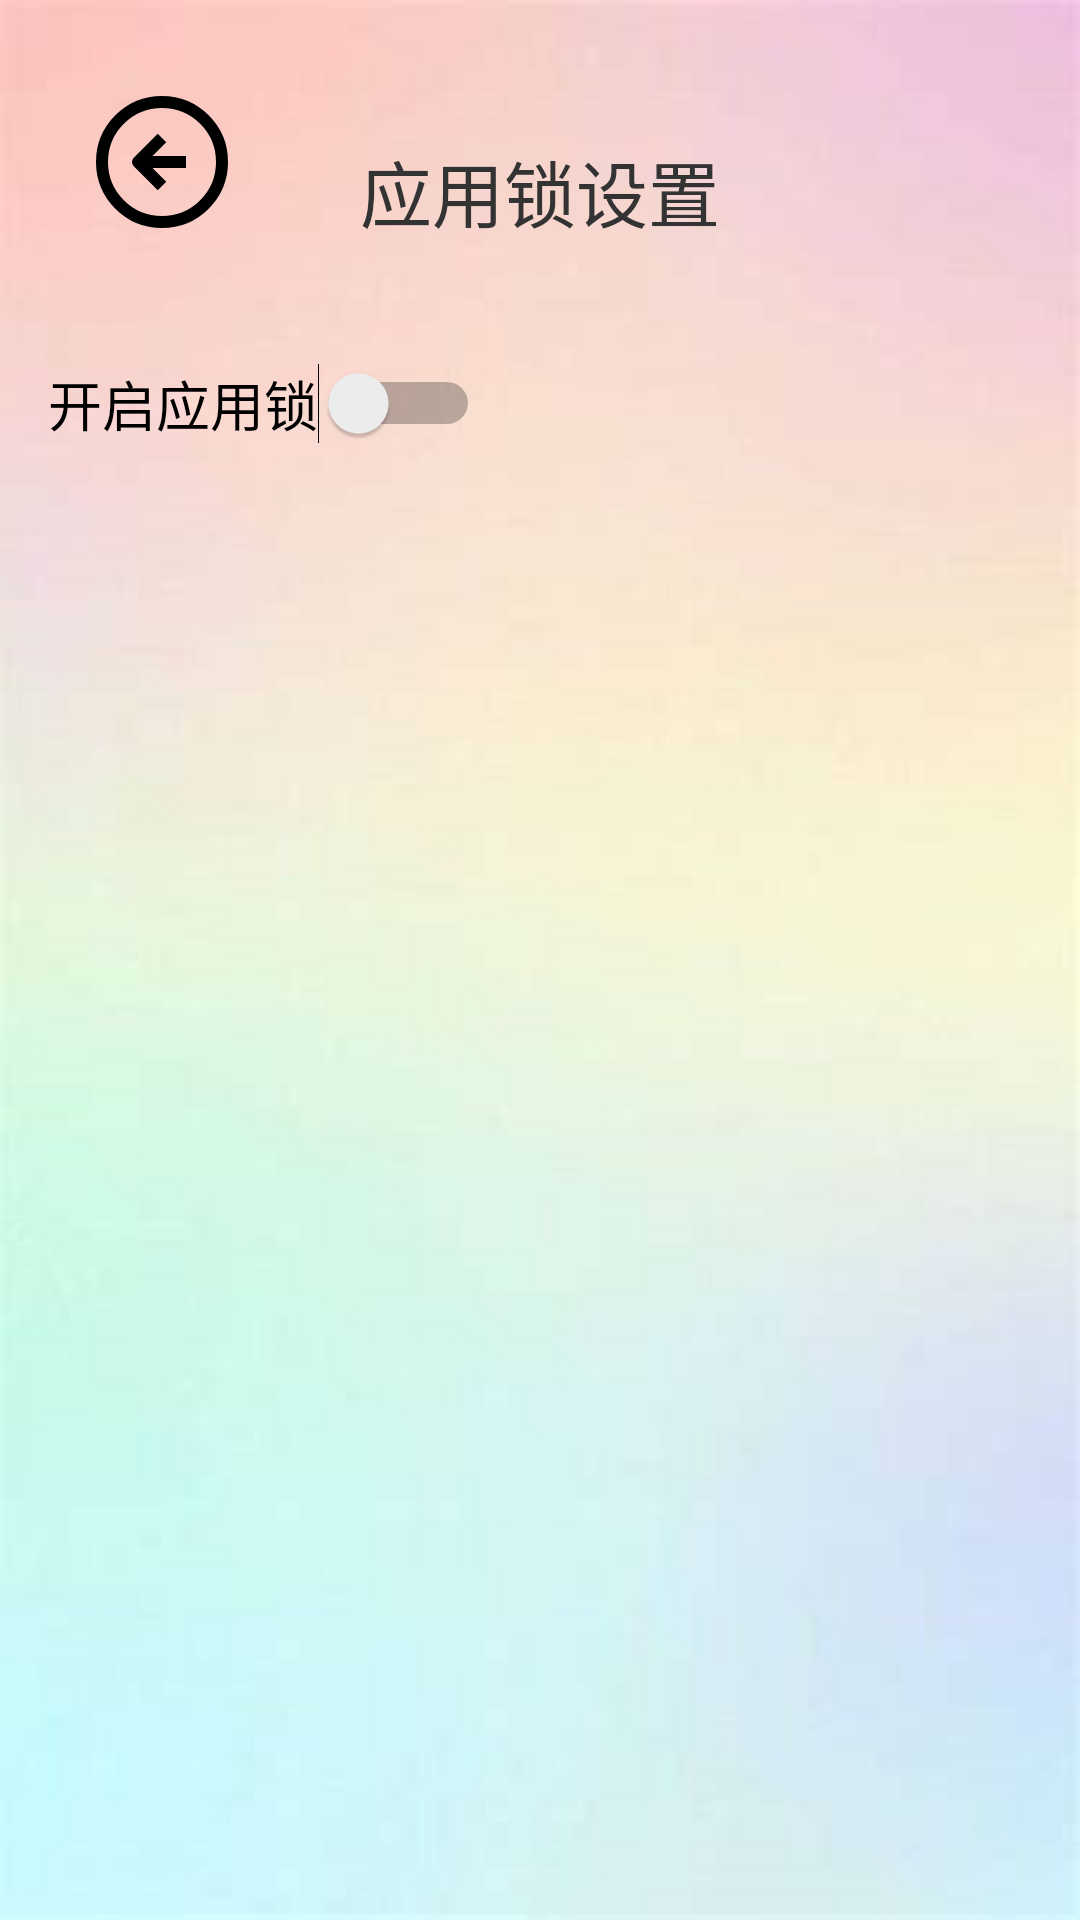

Screen size 1080 x 1920. Icon name, then its center in pixels as [x,y]:
back: [162,162]
